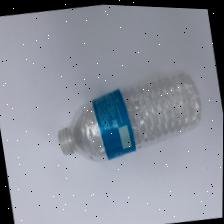plastic: (44, 50, 216, 186)
